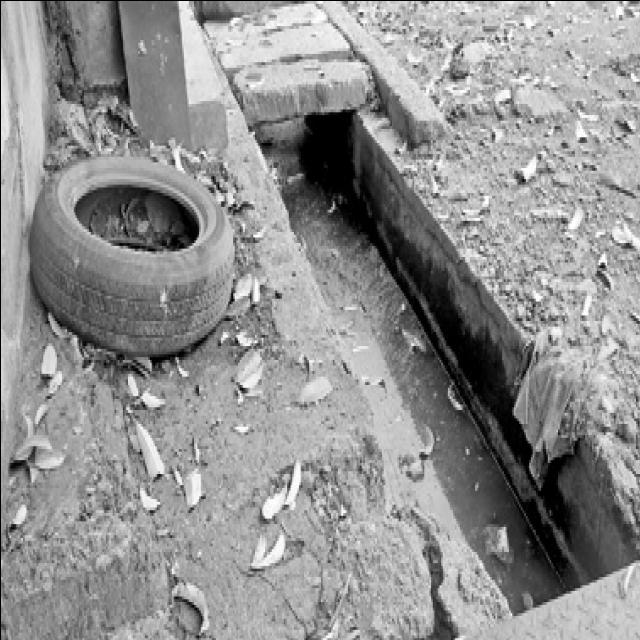Breeding Place: (251, 110, 640, 615), (26, 155, 243, 375)
